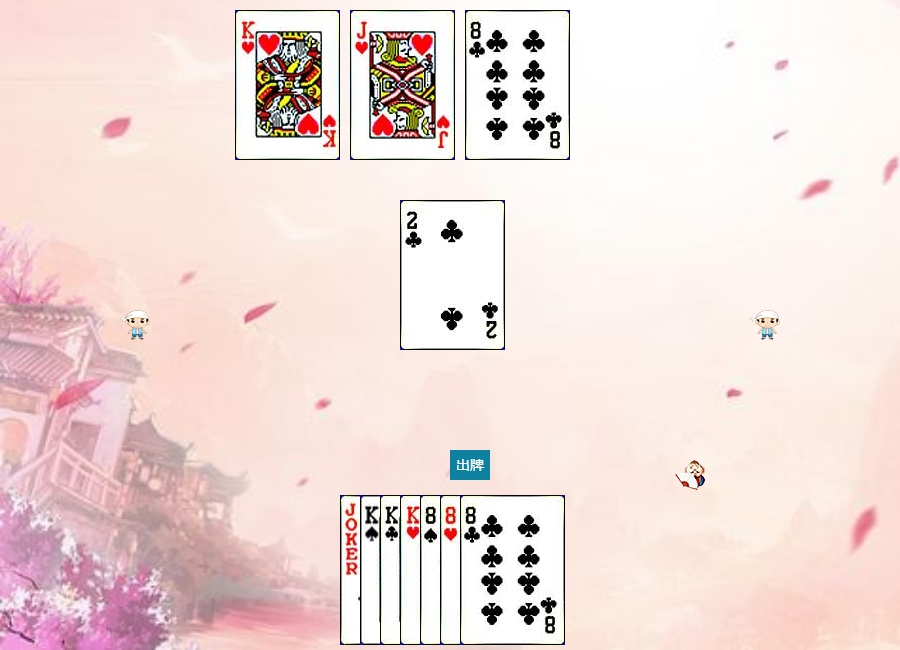11~3: (350, 10, 455, 160)
13~2: (380, 495, 485, 645)
13~3: (235, 10, 340, 160), (400, 495, 505, 645)
13~4: (360, 495, 465, 645)
15~2: (400, 200, 505, 350)
18~4: (340, 495, 445, 645)
8~2: (465, 10, 570, 160), (460, 495, 565, 645)
8~3: (440, 495, 545, 645)
8~4: (420, 495, 525, 645)
